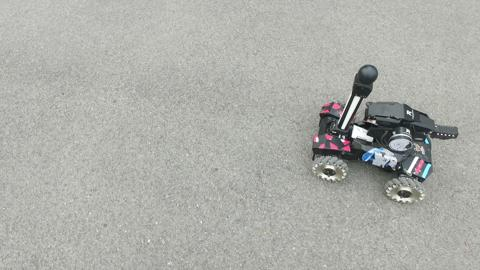chariot: (309, 62, 459, 204)
